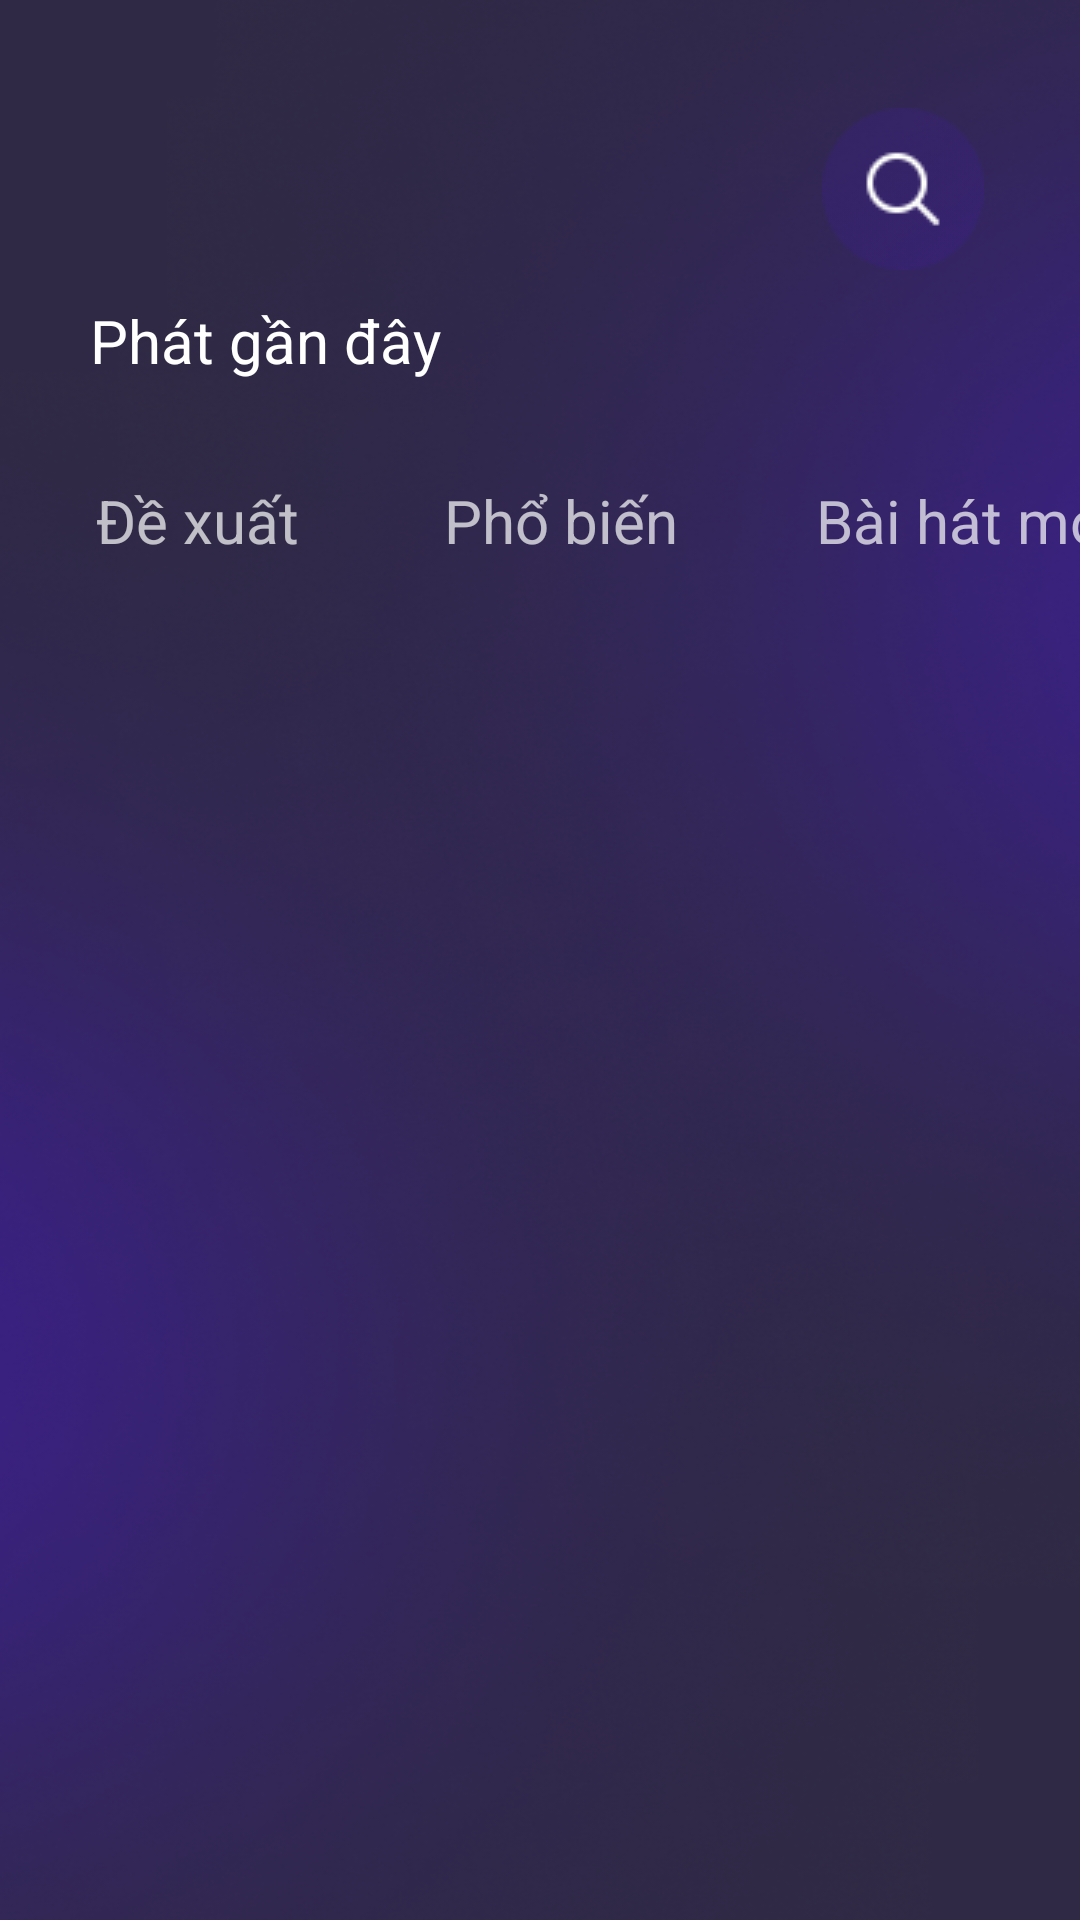

Icon click points for this 1080px x 1920px phone screenshot, format (x,y):
search button: (903,189)
